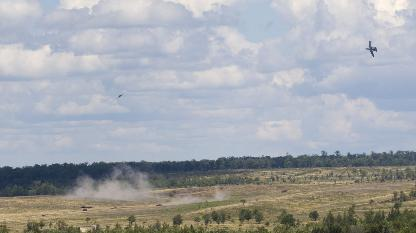A10: (364, 41, 378, 57), (114, 92, 124, 99)
